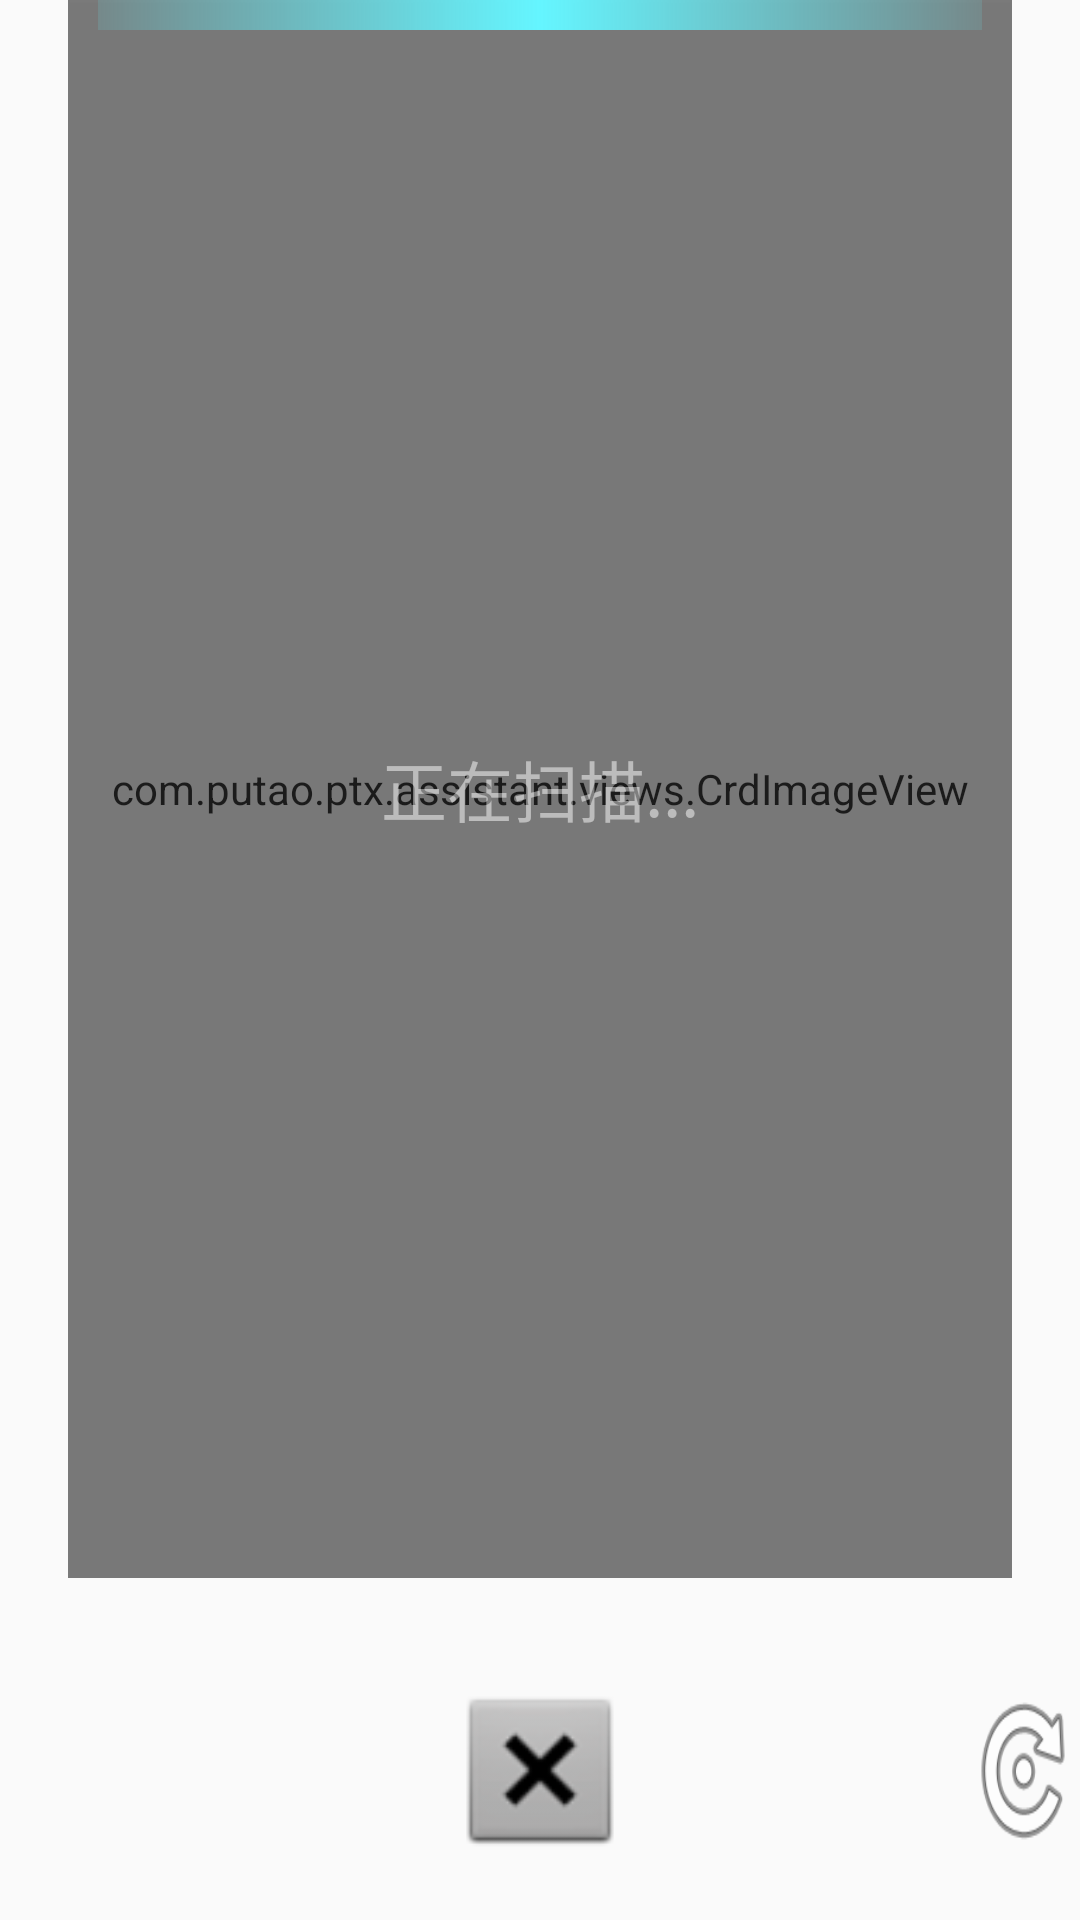

Where to tap for icons on this 1080 x 1920 app screen, as (x=x, y=y):
rotate: (x=1023, y=1770)
